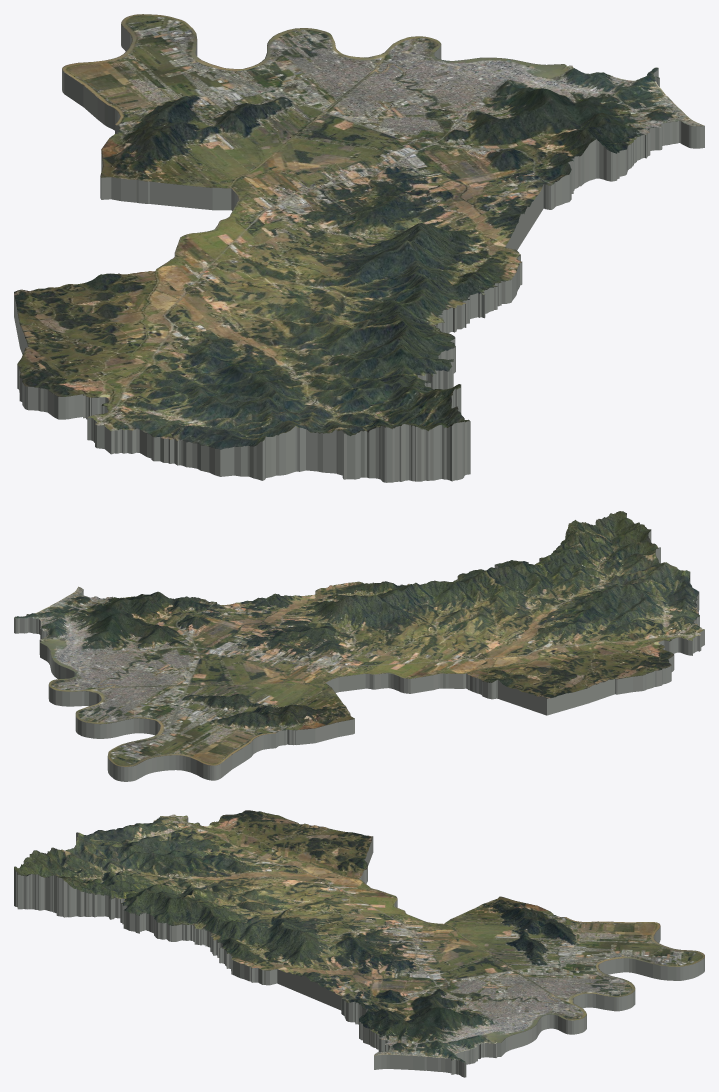
The model's file is itajai_terreno.glb.
3 renders of one model, top to bottom at view 1: azimuth 30°, elevation 25°; view 2: azimuth 150°, elevation 25°; view 3: azimuth 270°, elevation 25°, orthographic. The views are drawn at different scales.
Visible parts, largest first — view 1: Itajai_Terreno; view 2: Itajai_Terreno; view 3: Itajai_Terreno.
Part boxes in pixels (x1=…): Itajai_Terreno: x1=14, y1=14, x2=704, y2=482; Itajai_Terreno: x1=14, y1=511, x2=704, y2=781; Itajai_Terreno: x1=14, y1=810, x2=704, y2=1077.
Size of the model in its own units: 1.73 by 0.1258 by 2.
Materials: 2 (1 with a texture image).
